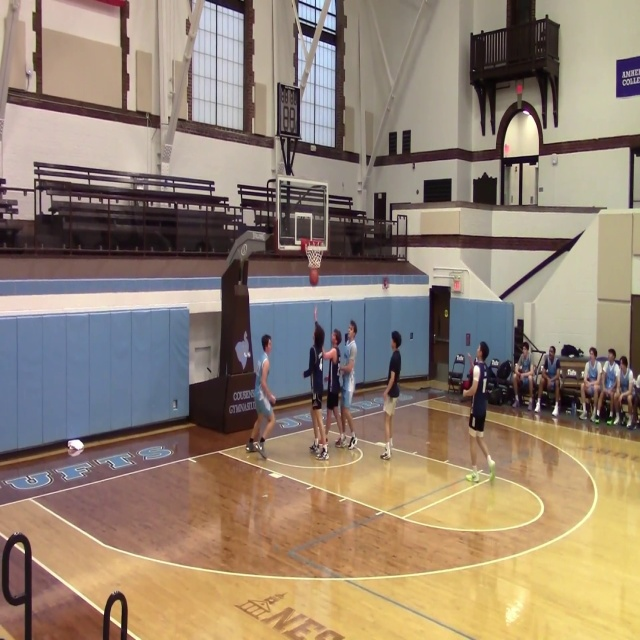Basketball: (67, 439, 84, 456), (585, 383, 598, 397), (310, 268, 318, 285), (465, 473, 478, 482), (268, 394, 276, 405), (461, 380, 469, 389)
